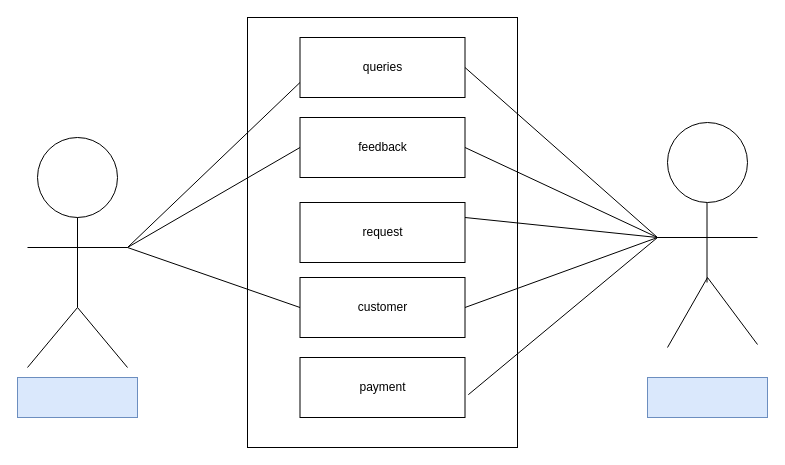
Some shapes in this 785 by 465 pixel diagram are drawn without their labels. The shapes that lost their labels are listed below. From the top down, each one's centre as x and y in pixels, then its label:
At point (77, 397): "admin".
At point (707, 397): "User".
